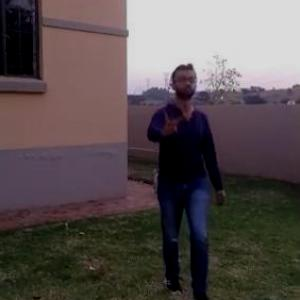takeoff-hand: (158, 113, 182, 141)
